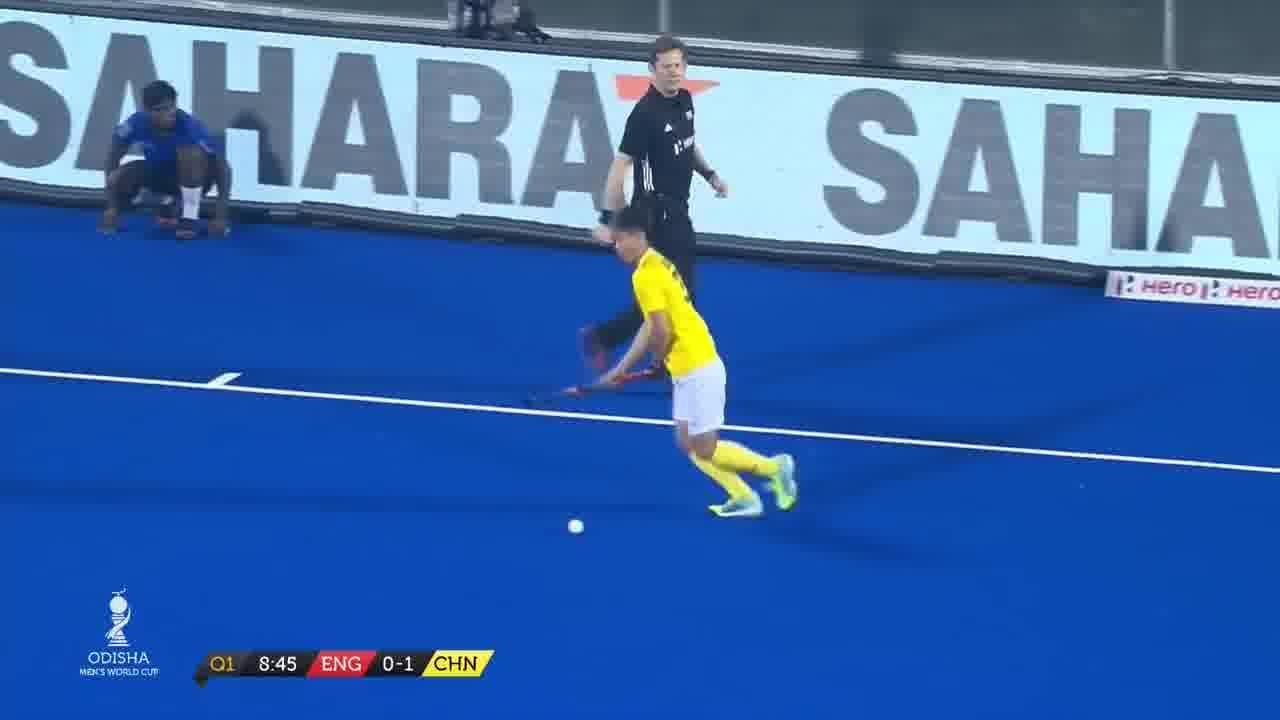ball: (564, 515, 589, 539)
